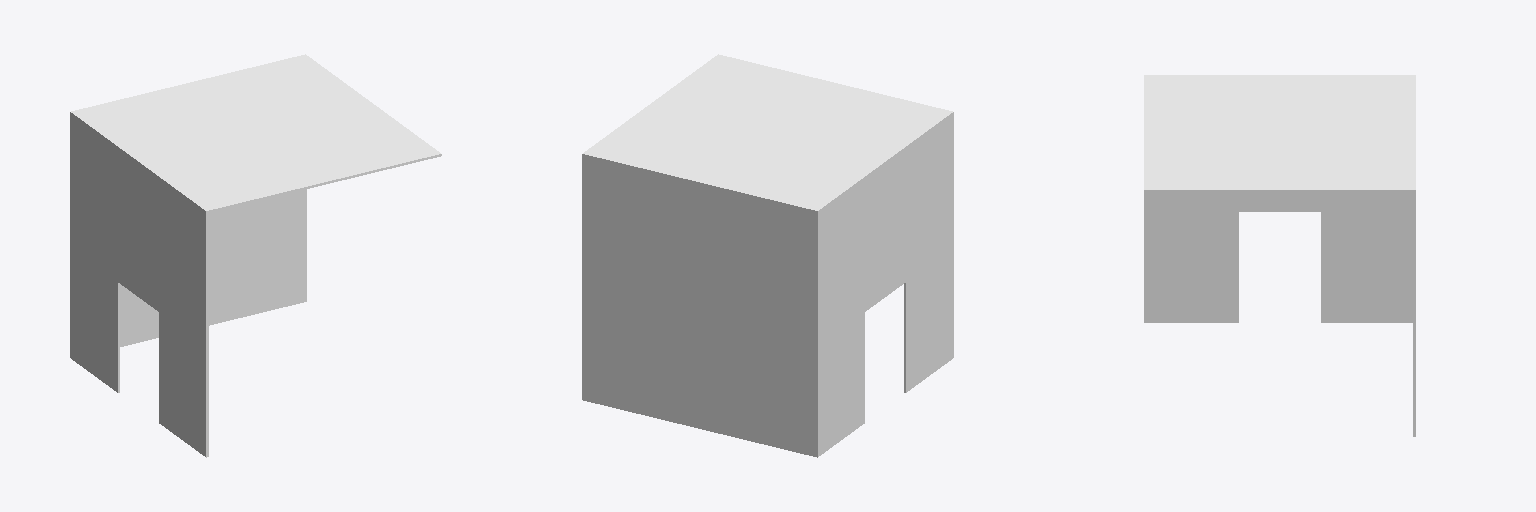
The model's file is room_L_01.obj.
3 renders of one model, left to right at view 1: azimuth 30°, elevation 25°; view 2: azimuth 150°, elevation 25°; view 3: azimuth 270°, elevation 25°, orthographic.
Visible parts, largest first — view 1: room_L_01; view 2: room_L_01; view 3: room_L_01.
Boxes of the visible parts, x1=… form: room_L_01: x1=70, y1=54, x2=441, y2=457; room_L_01: x1=582, y1=54, x2=953, y2=457; room_L_01: x1=1144, y1=75, x2=1415, y2=436.
Bounding box in the file's own units: 100 × 100 × 100.